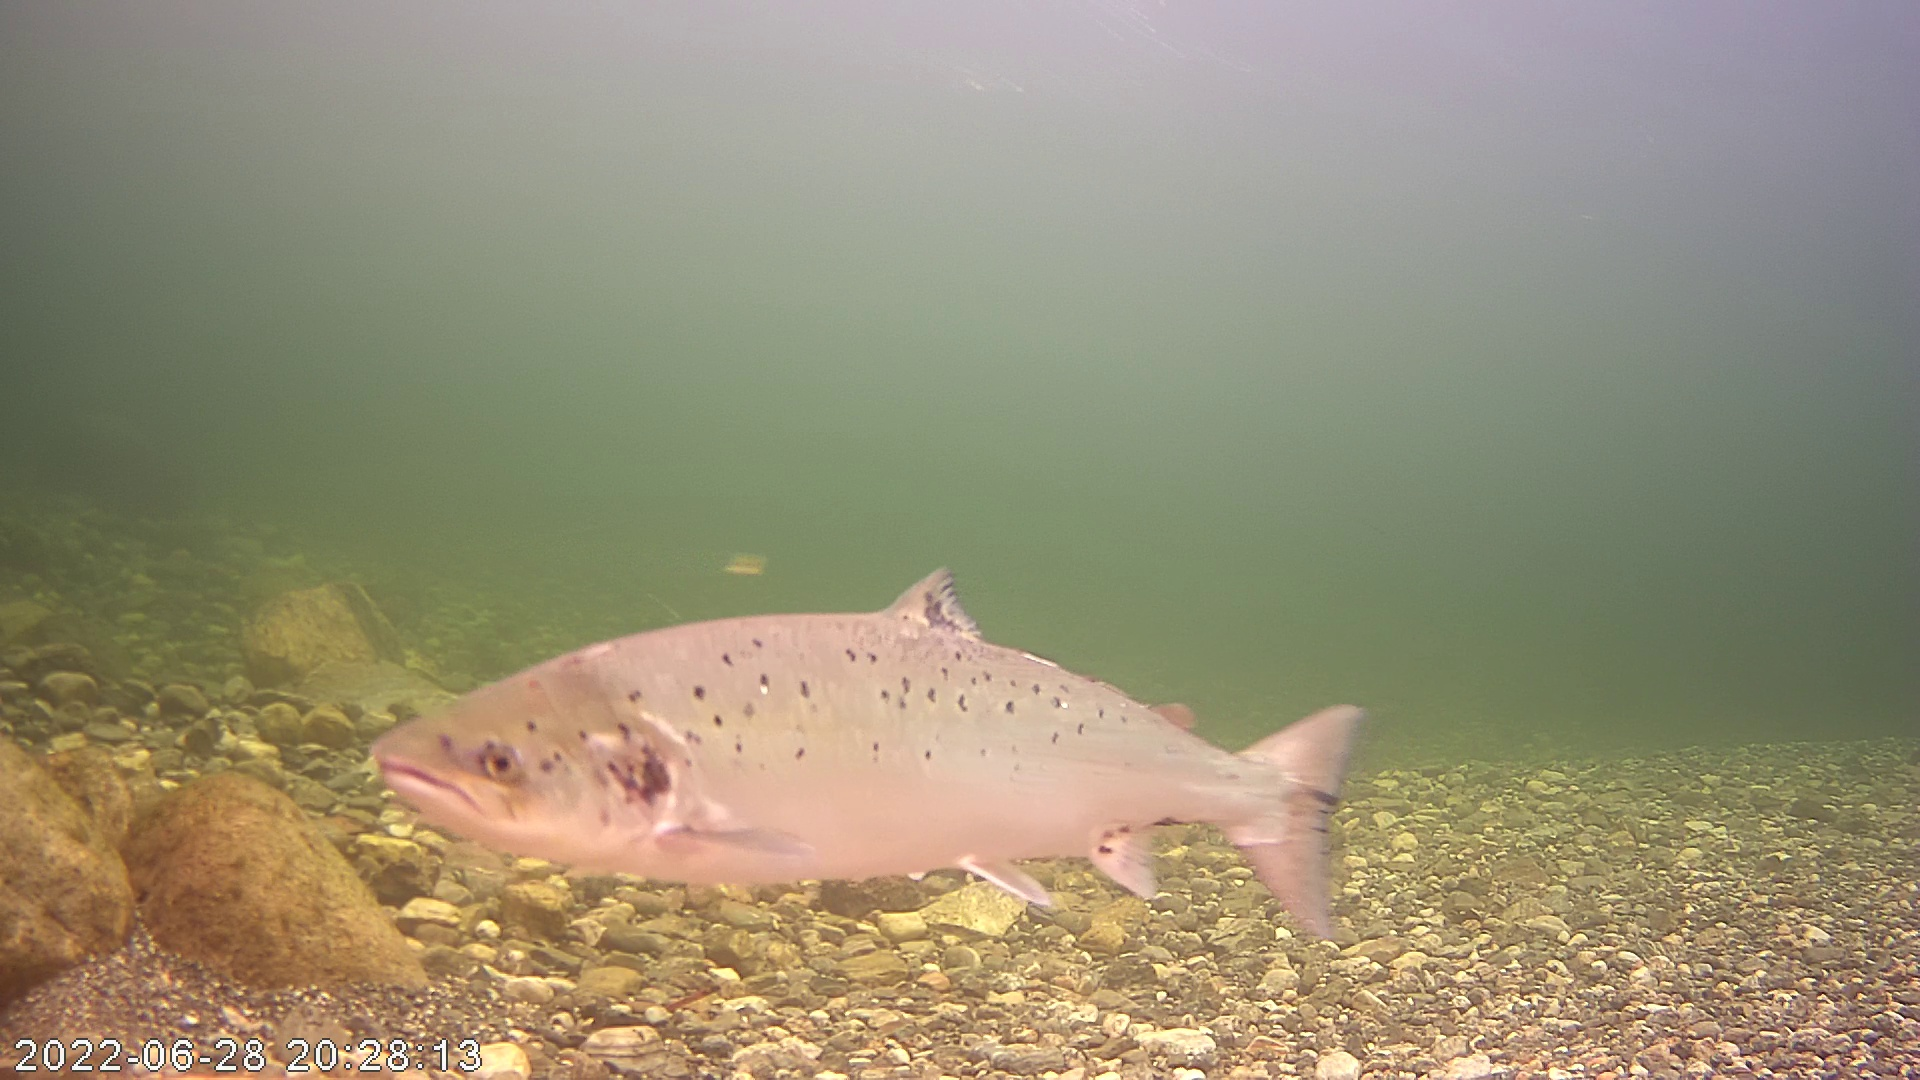salmon: (367, 542, 1386, 897)
